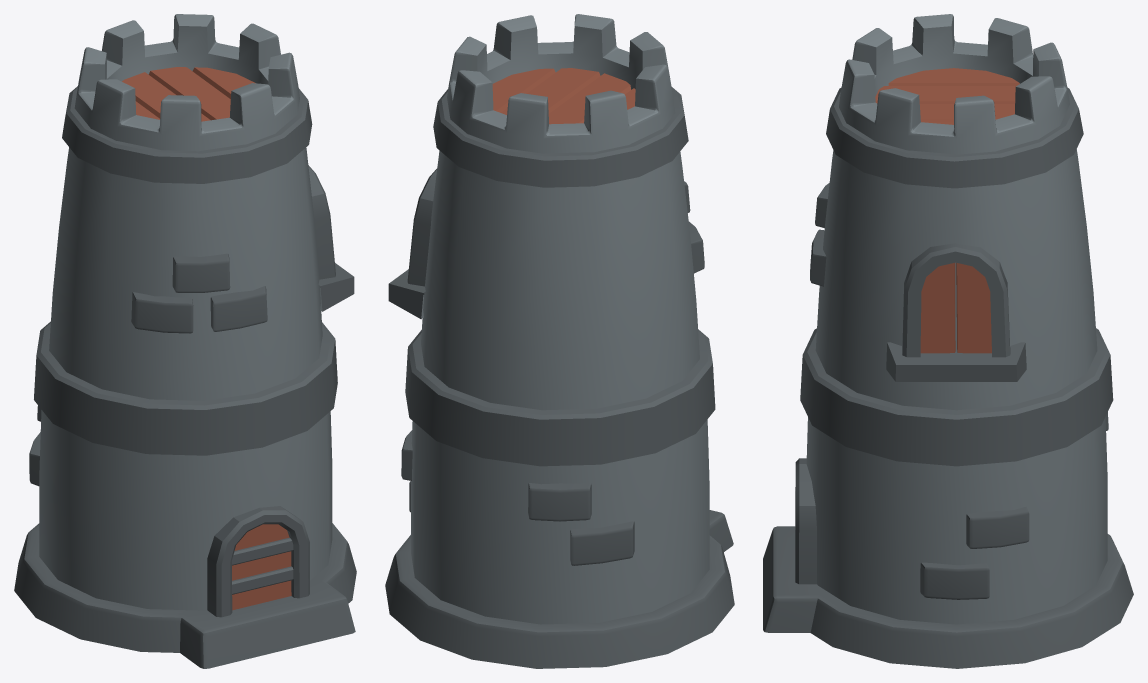
Rendered from watchtower.fbx.
3 renders of one model, left to right at view 1: azimuth 30°, elevation 25°; view 2: azimuth 150°, elevation 25°; view 3: azimuth 270°, elevation 25°, orthographic. The views are drawn at different scales.
Parts seen in each view (by area): view 1: watchtower; view 2: watchtower; view 3: watchtower.
Boxes of the visible parts, bbox=[...] form: watchtower: bbox=[14, 14, 356, 668]; watchtower: bbox=[385, 14, 734, 668]; watchtower: bbox=[763, 14, 1133, 668].
Bounding box in the file's own units: 118 × 198 × 124.
